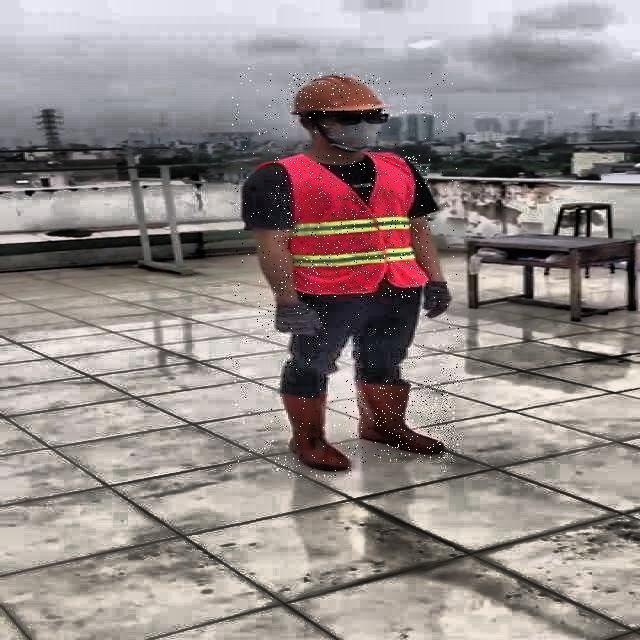safety_helmet: (290, 72, 388, 115)
safety_jacket: (274, 155, 431, 297)
